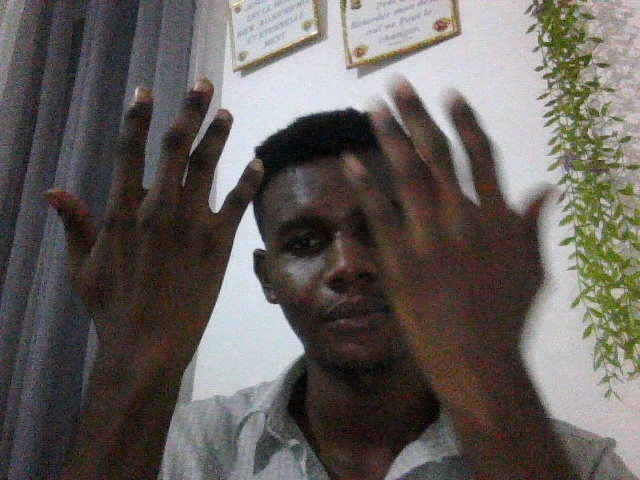hand: (38, 66, 267, 405)
